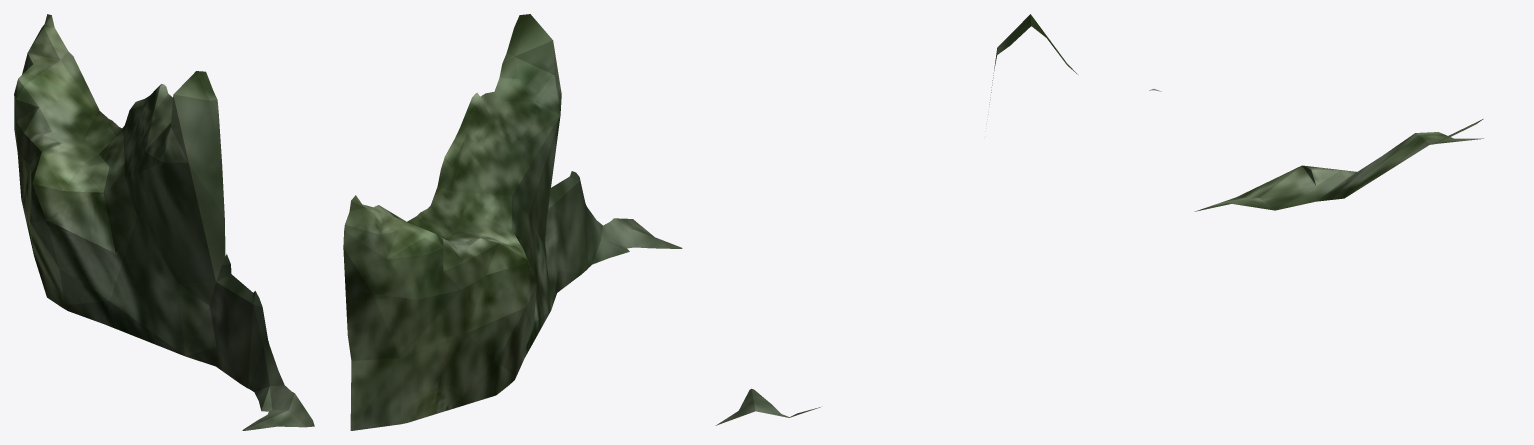
3 renders of one model, left to right at view 1: azimuth 30°, elevation 25°; view 2: azimuth 150°, elevation 25°; view 3: azimuth 270°, elevation 25°, orthographic. The views are drawn at different scales.
Bounding box in the file's own units: 0.3432 × 1 × 1.79.
Materials: 1 (1 with a texture image).
